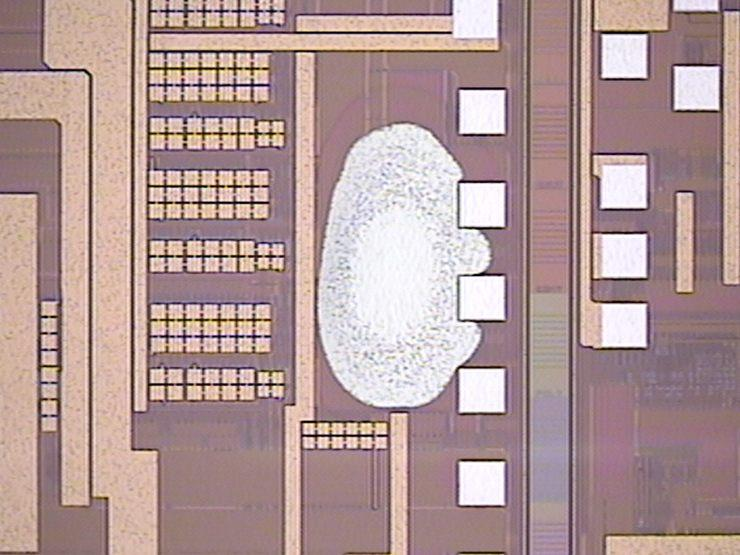BLOCK ETCH: (314, 81, 517, 436)
